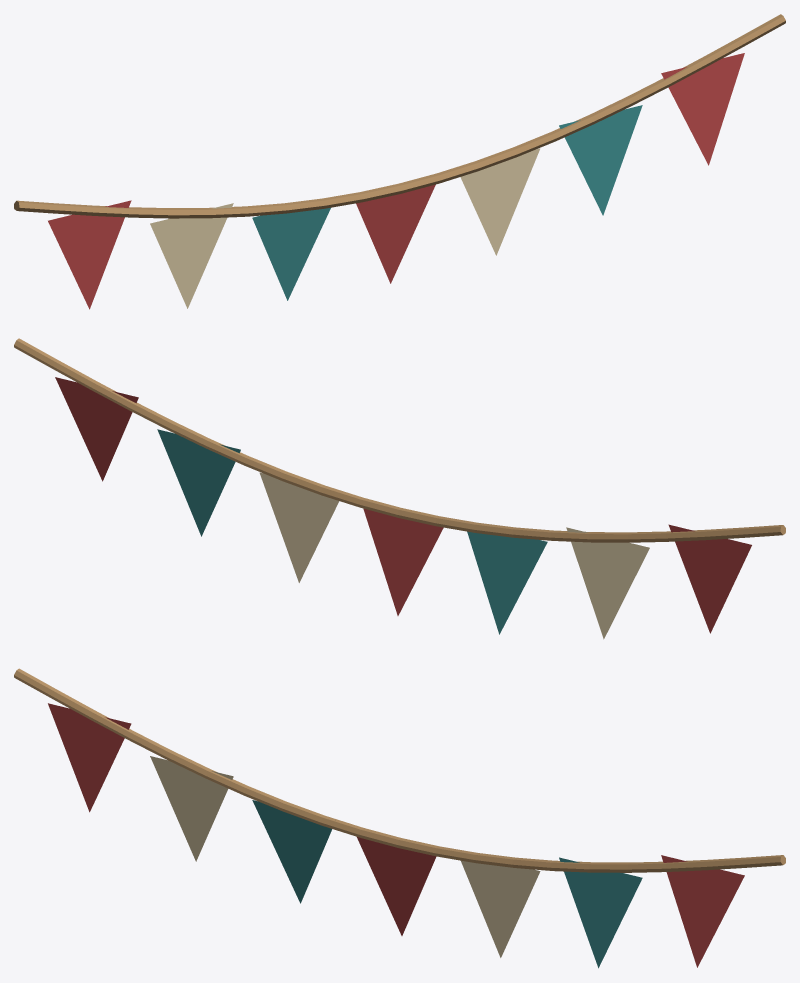
File: bunting.glb
3 views of the same model, one above another, from view 1: azimuth 30°, elevation 25°; view 2: azimuth 150°, elevation 25°; view 3: azimuth 330°, elevation 25° (orthographic).
Visible parts, largest first — view 1: Bunting cord, Little pennant.006, Little pennant.005, Little pennant, Little pennant.004, Little pennant.001, Little pennant.003, Little pennant.002; view 2: Bunting cord, Little pennant.002, Little pennant.003, Little pennant.001, Little pennant.004, Little pennant, Little pennant.005, Little pennant.006; view 3: Bunting cord, Little pennant.006, Little pennant.005, Little pennant, Little pennant.004, Little pennant.001, Little pennant.003, Little pennant.002.
Part boxes in pixels (x1,y1,x2,y2): Bunting cord: [14, 14, 785, 218]; Little pennant.006: [661, 53, 744, 165]; Little pennant.005: [559, 105, 642, 215]; Little pennant: [48, 200, 131, 309]; Little pennant.004: [460, 148, 540, 255]; Little pennant.001: [150, 203, 233, 308]; Little pennant.003: [356, 184, 435, 283]; Little pennant.002: [252, 207, 330, 300]; Bunting cord: [14, 338, 785, 542]; Little pennant.002: [467, 531, 547, 634]; Little pennant.003: [363, 508, 443, 615]; Little pennant.001: [566, 527, 649, 639]; Little pennant.004: [259, 472, 339, 582]; Little pennant: [668, 524, 751, 633]; Little pennant.005: [157, 429, 240, 536]; Little pennant.006: [55, 377, 138, 481]; Bunting cord: [14, 668, 785, 872]; Little pennant.006: [661, 855, 744, 967]; Little pennant.005: [559, 857, 642, 968]; Little pennant: [48, 703, 131, 812]; Little pennant.004: [461, 860, 540, 957]; Little pennant.001: [150, 756, 233, 861]; Little pennant.003: [357, 837, 436, 935]; Little pennant.002: [252, 800, 332, 903].
Bounding box in the file's own units: 4.21 × 0.9379 × 0.1156.
